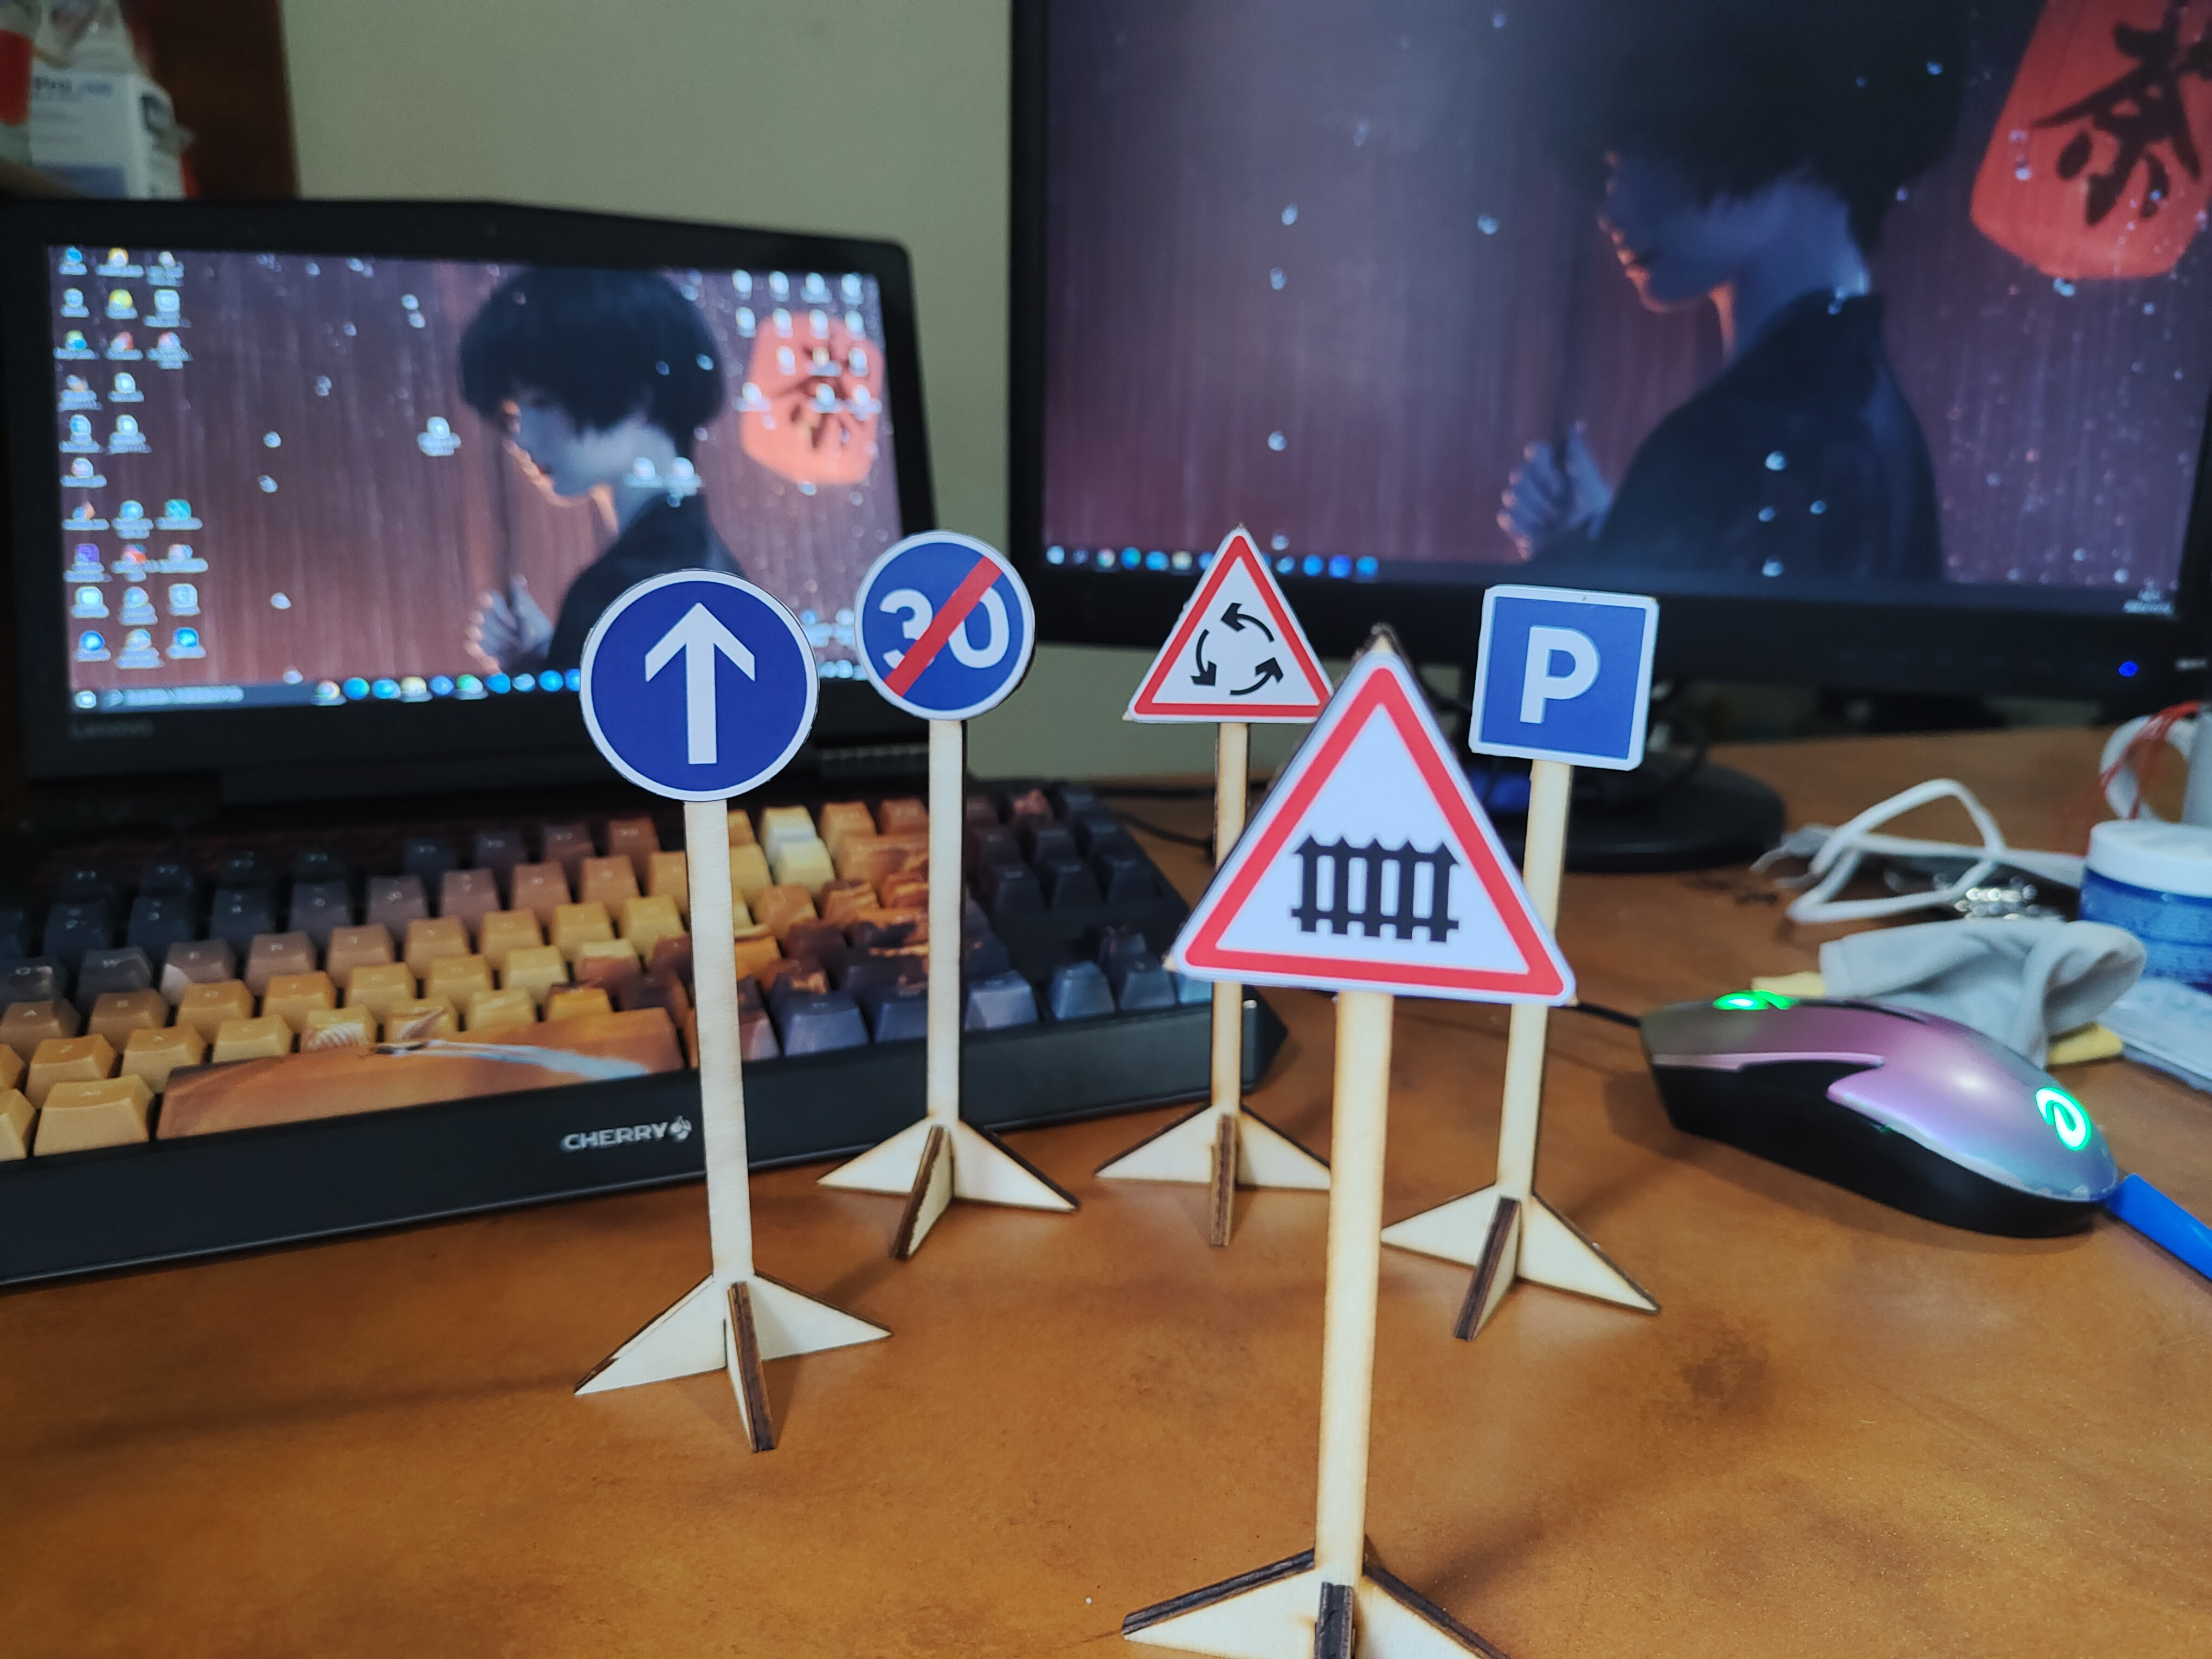P: (1461, 575, 1660, 772)
ban: (852, 528, 1040, 711)
cycle: (1115, 535, 1346, 718)
straight: (583, 568, 822, 802)
train: (1167, 638, 1573, 1012)
